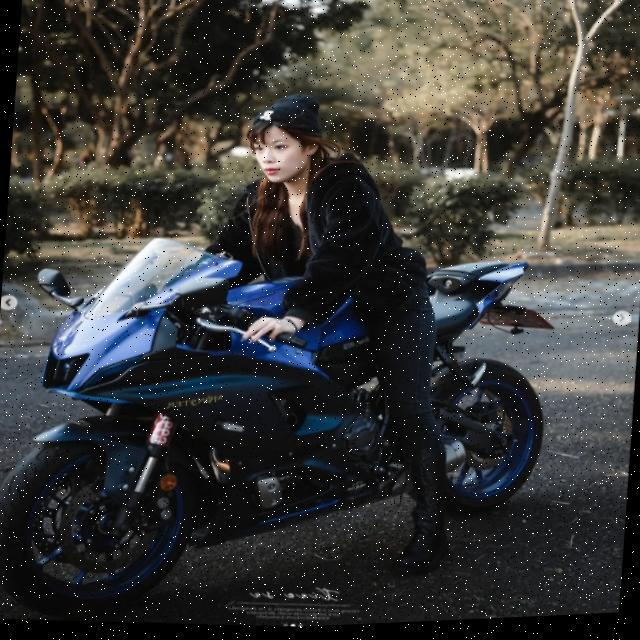illegal_helmet: (242, 84, 330, 194)
